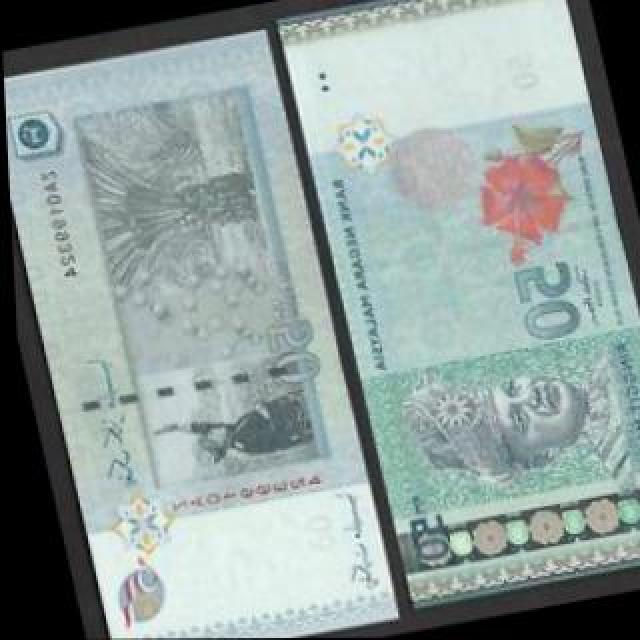50 Ringgit: (2, 24, 400, 640), (270, 0, 640, 620)
